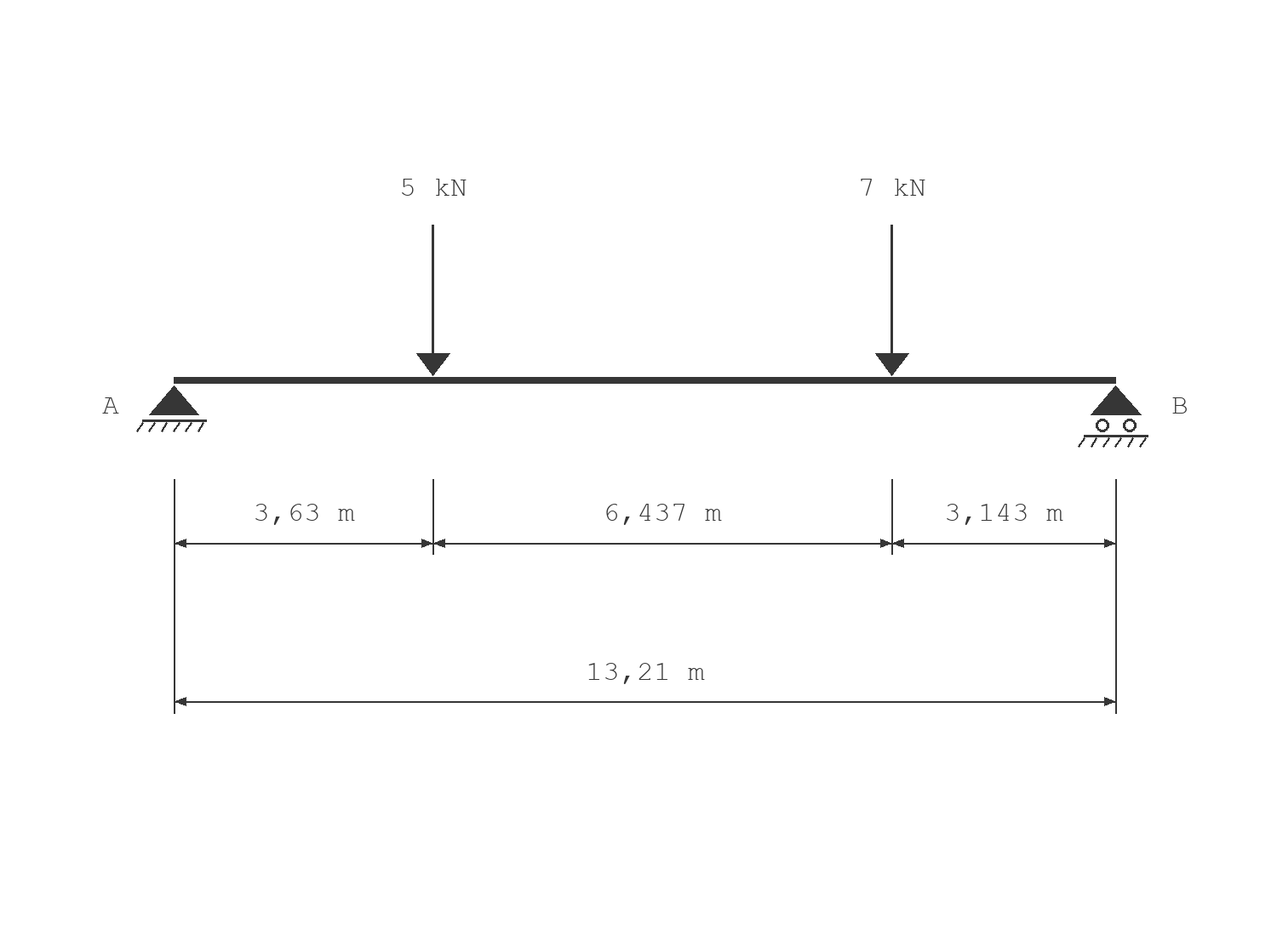pin_support: (136, 385, 207, 432)
point_load: (416, 225, 450, 376), (875, 225, 909, 376)
roller_support: (1078, 385, 1148, 448)
